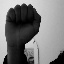a: (3, 3, 42, 55)
